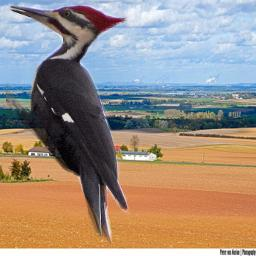Woodpecker: (6, 5, 130, 243)
